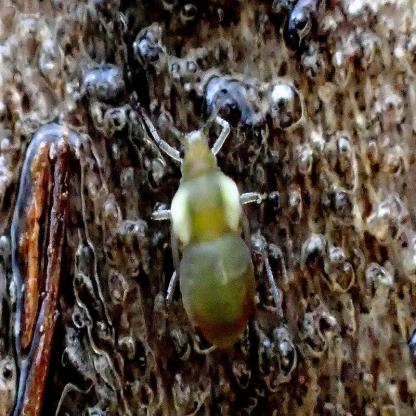aphid: (119, 98, 281, 359)
